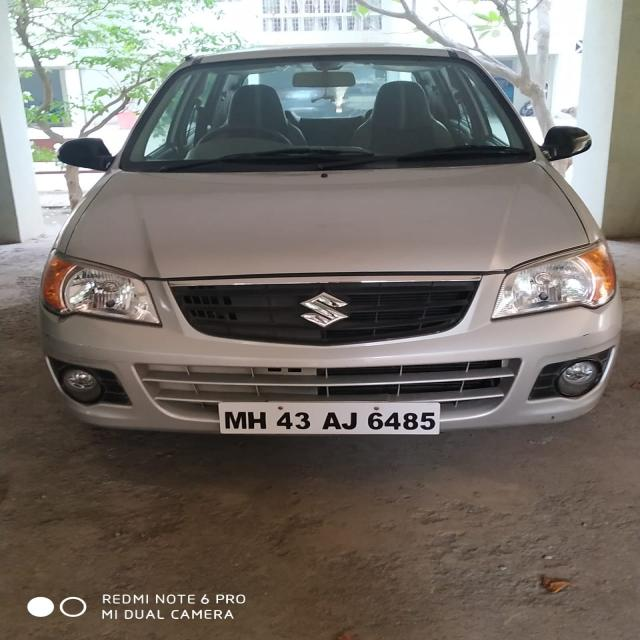Number-Plate: (219, 404, 442, 435)
